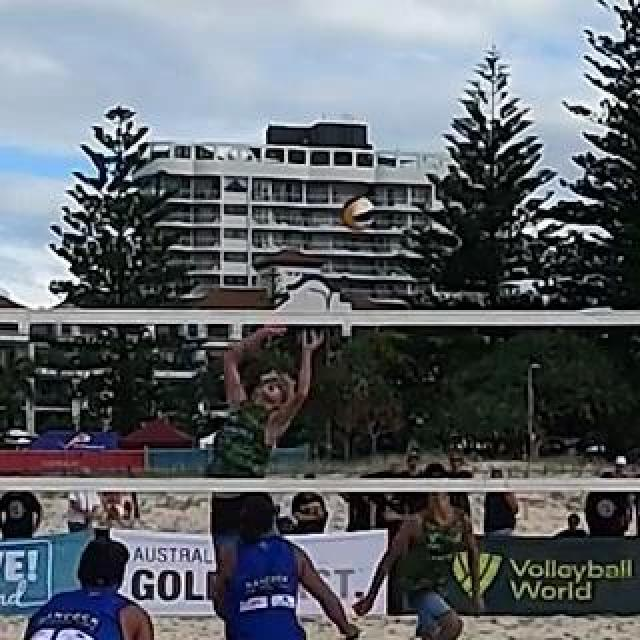volleyball: (344, 197, 374, 229)
